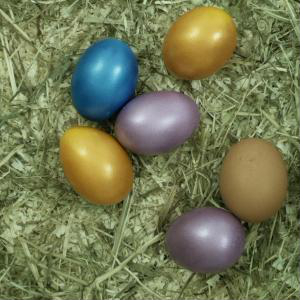egg: (218, 138, 289, 223), (59, 126, 134, 205), (114, 91, 200, 156), (72, 39, 138, 122), (163, 7, 237, 80), (166, 208, 247, 274)
